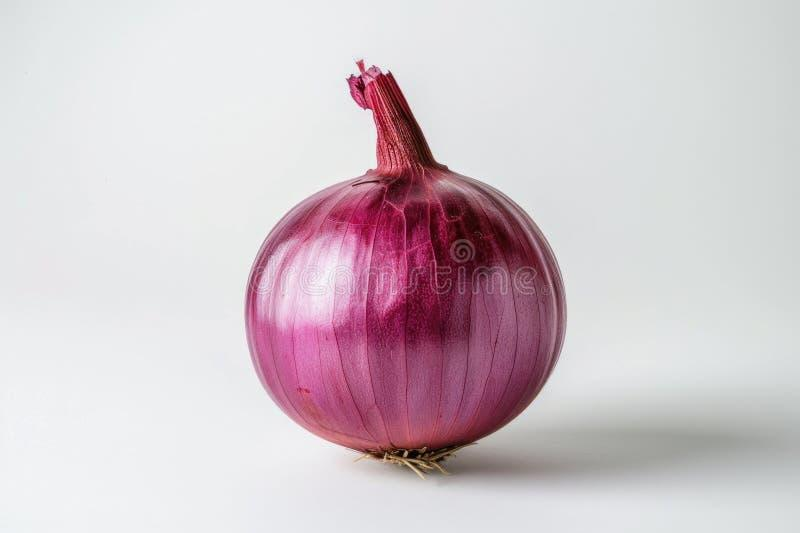Onion: (245, 61, 565, 472)
